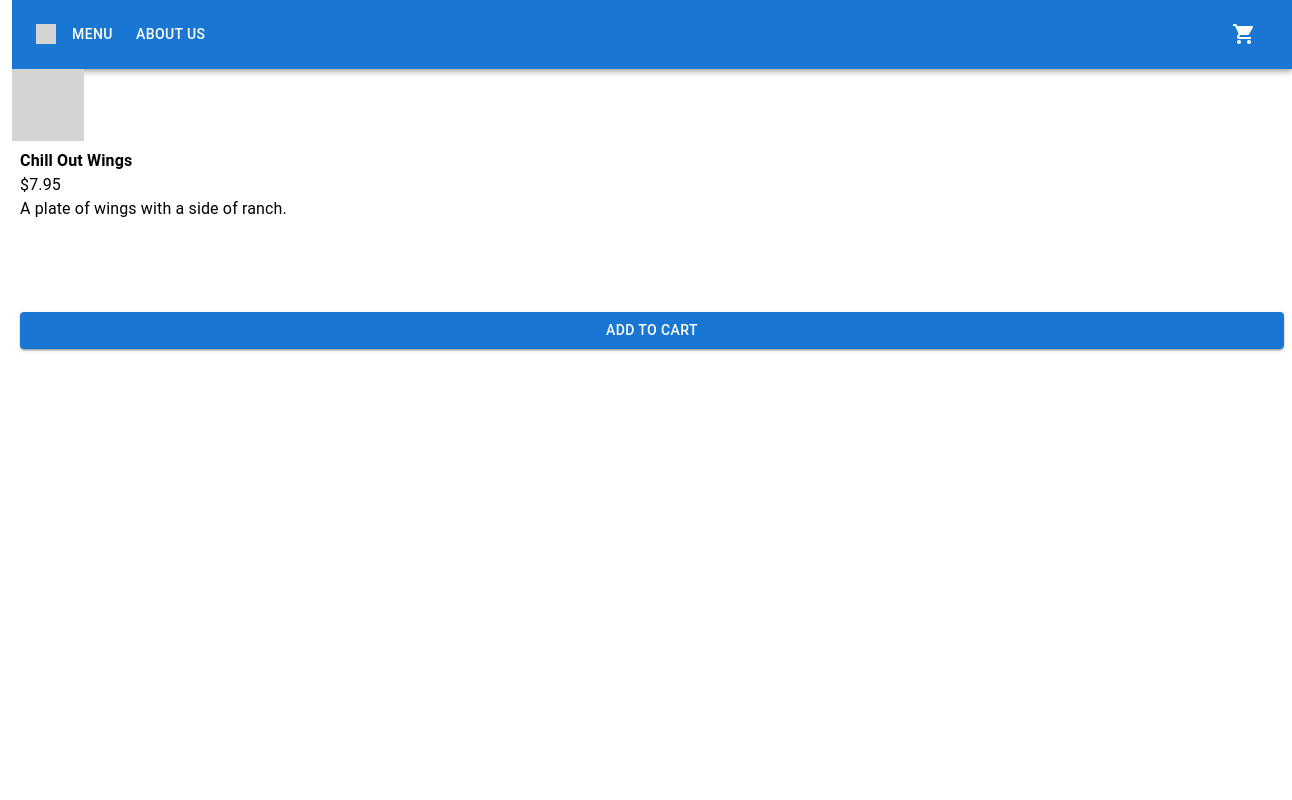
Scenario: adds an item to the cart when the add to cart button is clicked
The image size is (1292, 800).
Click the button "Add to cart": click(652, 330) [20, 312, 1284, 348]
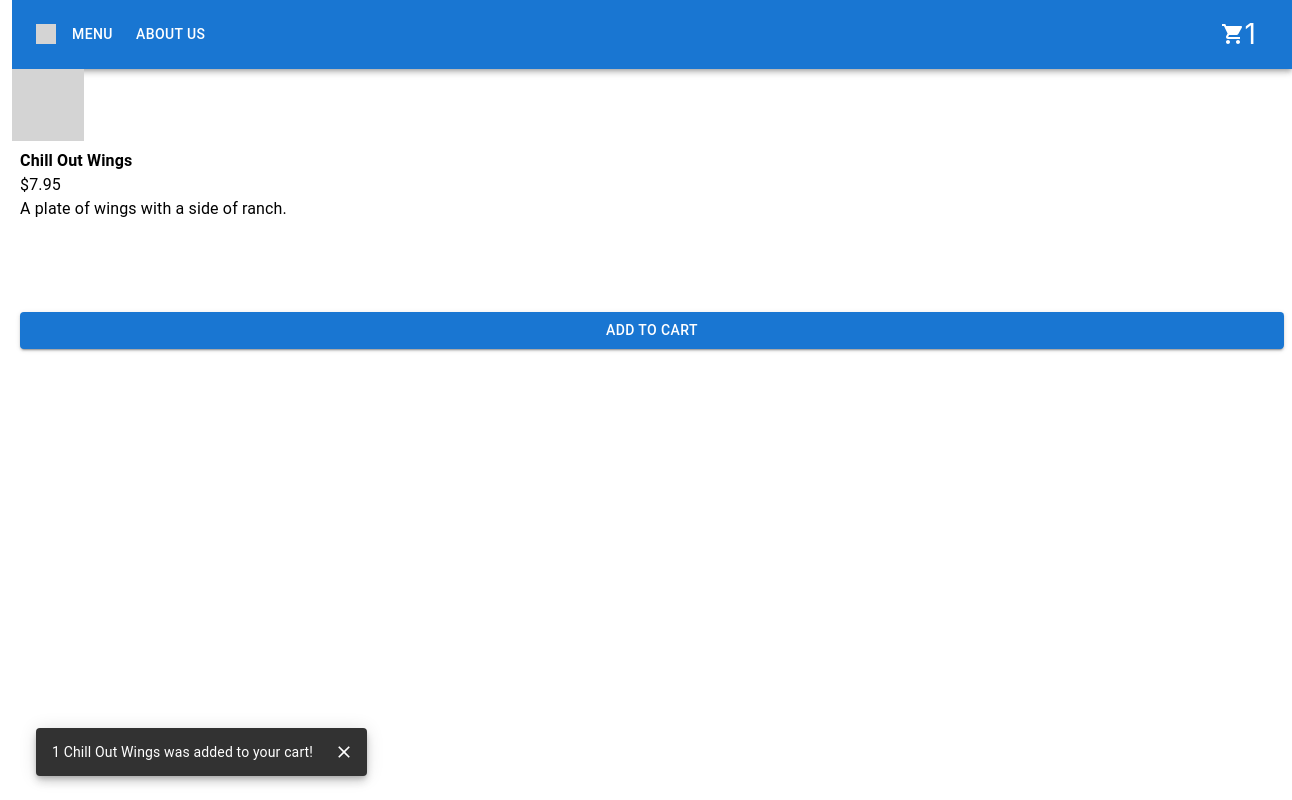
Result: the text "1 Chill Out Wings was added to your cart!" is shown at [52, 744, 313, 760]
Result: the text "1" is shown at [1245, 17, 1256, 51]
Click the button "Add to cart": click(652, 330) [20, 312, 1284, 348]
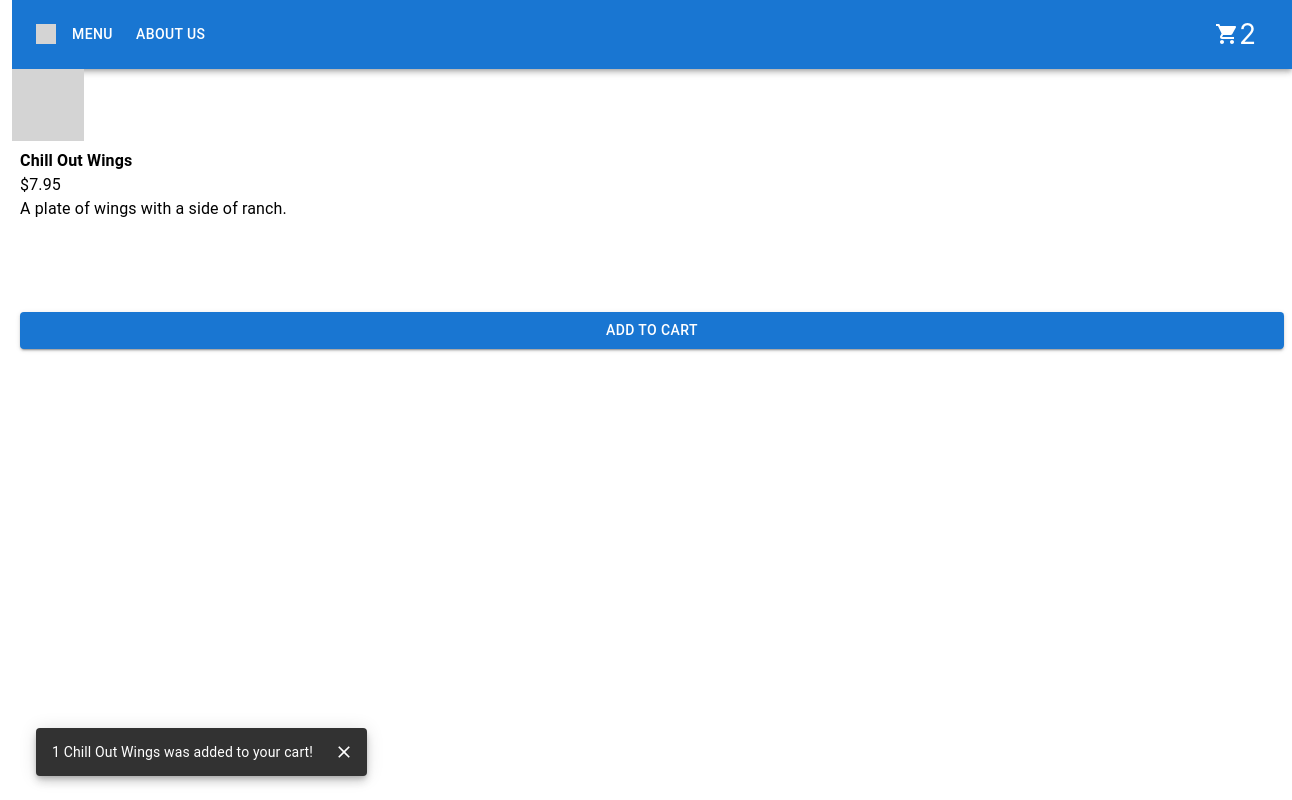
Result: the text "2" is shown at [1239, 17, 1256, 51]
